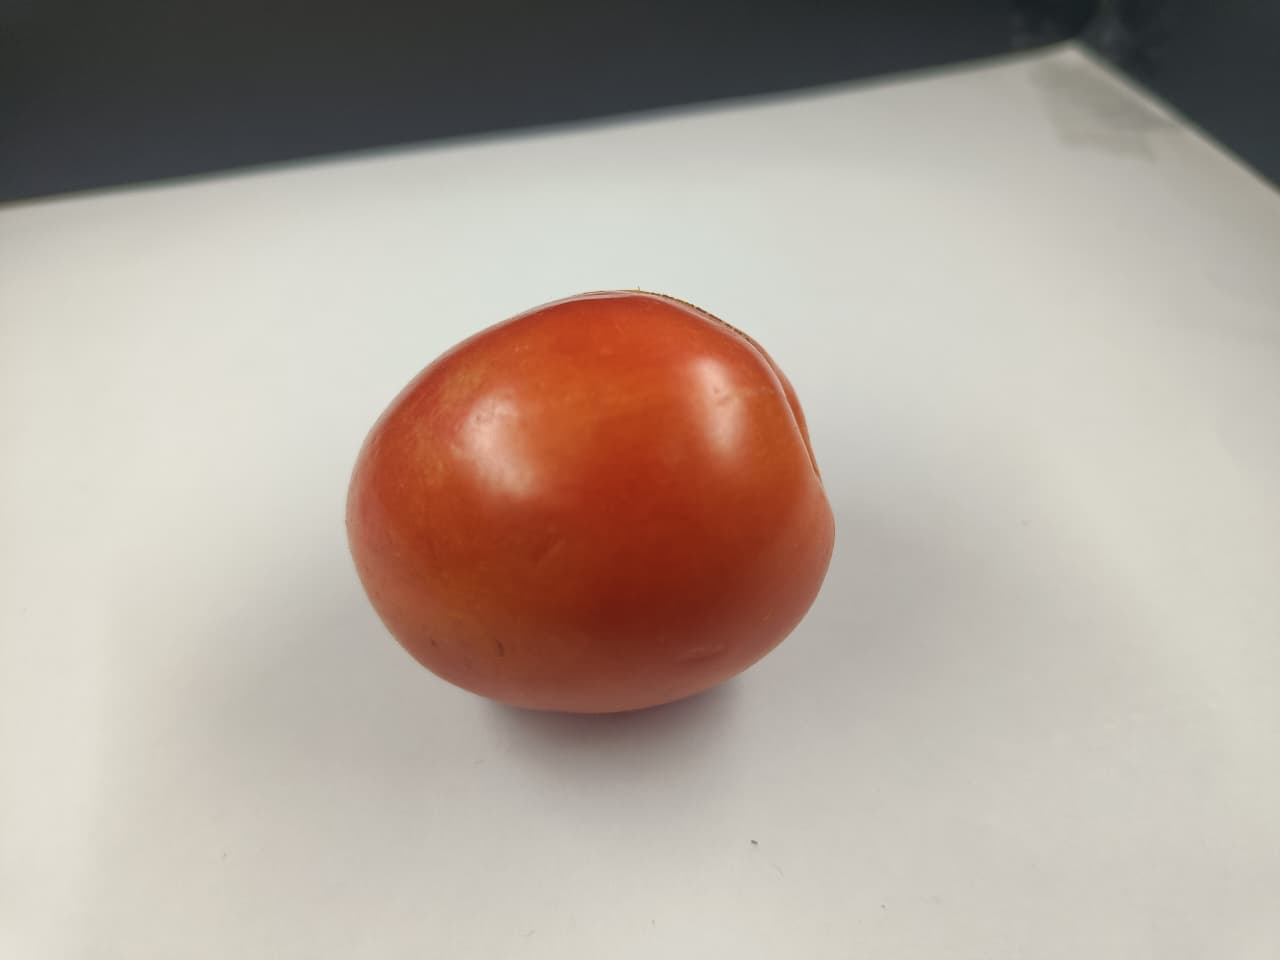ripe: (306, 289, 847, 720)
